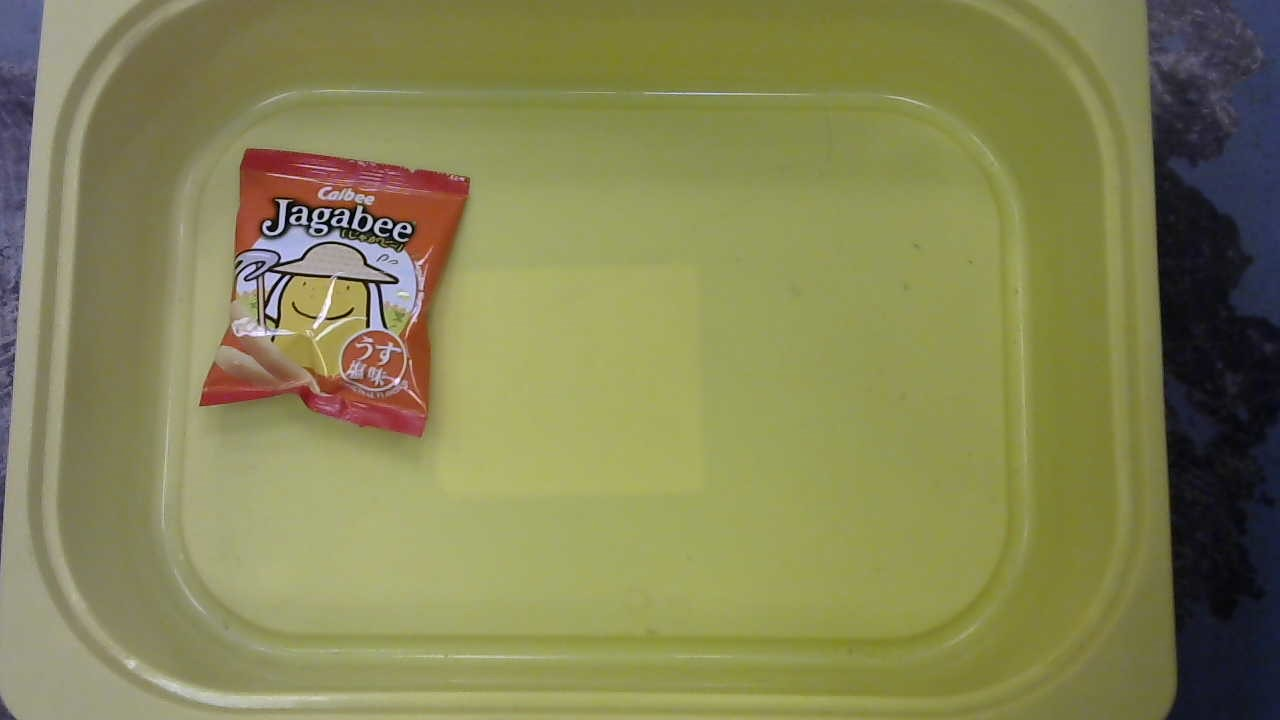JagabeeFarmer: (189, 138, 472, 438)
